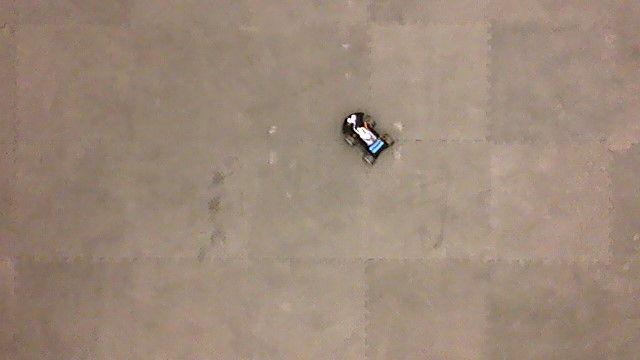Agent: (341, 110, 396, 166)
